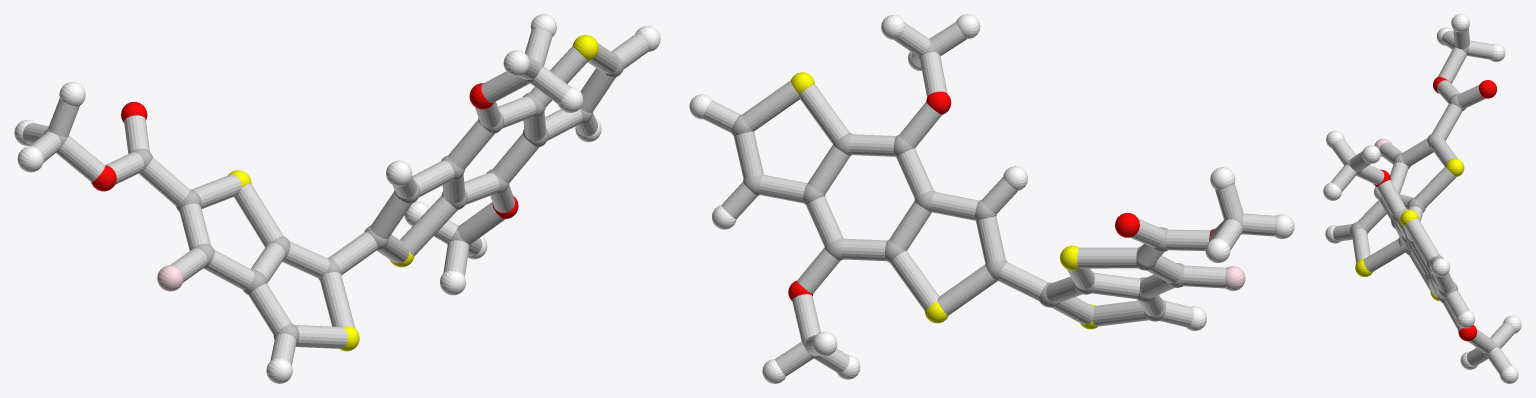
File: Dimethoxy_Benzodithiophene_Phi_25_Theta_250_Methylcarbonyl_3_Fluoro_Thienothiophene.glb
The picture shows the model from 3 angles, left to right: view 1: azimuth 30°, elevation 25°; view 2: azimuth 150°, elevation 25°; view 3: azimuth 270°, elevation 25°; orthographic projection. The views are drawn at different scales.
Visible parts, largest first — view 1: grp15205, grp8689, grp1, grp13395, grp7241, grp14843; view 2: grp15205, grp8689, grp1, grp13395, grp7241; view 3: grp15205, grp8689, grp1, grp13395, grp7241.
Part boxes in pixels (box(x1,y1,x2,y2)): grp15205: box(23, 28, 649, 365); grp8689: box(14, 14, 660, 383); grp1: box(43, 52, 623, 344); grp13395: box(91, 83, 518, 218); grp7241: box(228, 35, 598, 351); grp14843: box(157, 265, 183, 291); grp15205: box(703, 22, 1275, 376); grp8689: box(689, 14, 1294, 383); grp1: box(731, 43, 1243, 358); grp13395: box(788, 91, 1214, 300); grp7241: box(791, 72, 1097, 329); grp15205: box(1330, 28, 1514, 374); grp8689: box(1323, 14, 1521, 383); grp1: box(1345, 43, 1499, 356); grp13395: box(1373, 76, 1496, 341); grp7241: box(1355, 158, 1464, 300).
Bounding box in the file's own units: 16.68 × 8.14 × 6.35.
